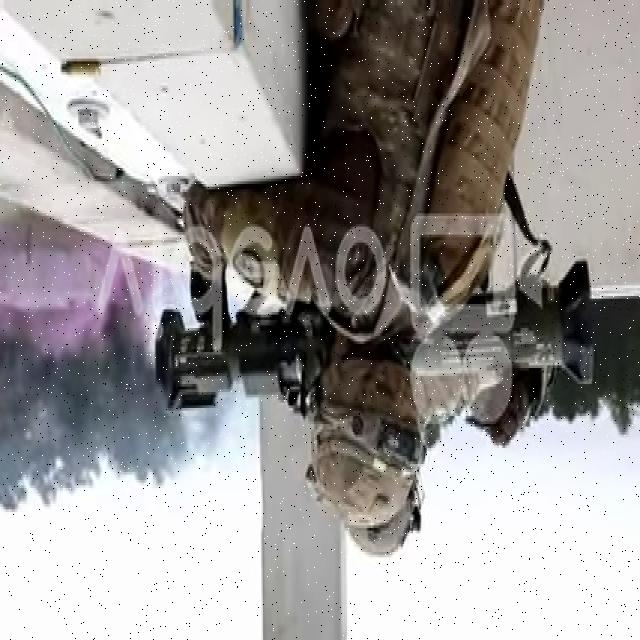bazooka: (149, 246, 599, 428)
